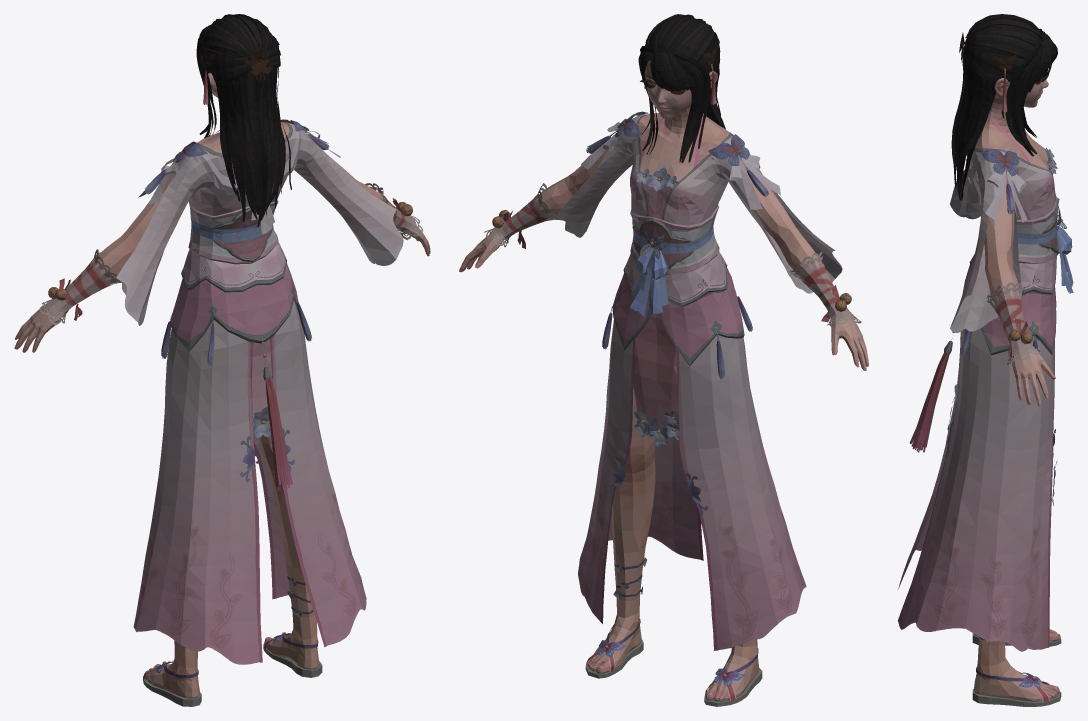
File: OriginalModel_LashFixed.fbx
3 renders of one model, left to right at view 1: azimuth 30°, elevation 25°; view 2: azimuth 150°, elevation 25°; view 3: azimuth 270°, elevation 25°, orthographic.
Parts seen in each view (by area): view 1: mesh_12_947881, mesh_07_598895, mesh_08_747885, mesh_05_436959, mesh_09_830237, mesh_03_362967, mesh_13_1062969, mesh_02_302131, mesh_06_523091, mesh_11_926543; view 2: mesh_12_947881, mesh_07_598895, mesh_05_436959, mesh_13_1062969, mesh_08_747885, mesh_03_362967, mesh_09_830237, mesh_02_302131, mesh_06_523091, mesh_01_142015; view 3: mesh_12_947881, mesh_07_598895, mesh_08_747885, mesh_13_1062969, mesh_09_830237, mesh_05_436959, mesh_03_362967, mesh_06_523091, mesh_02_302131, mesh_01_142015, mesh_11_926543.
Part boxes in pixels (bbox=[...]): mesh_12_947881: bbox=[133, 243, 366, 664]; mesh_07_598895: bbox=[116, 119, 403, 325]; mesh_08_747885: bbox=[196, 24, 291, 226]; mesh_05_436959: bbox=[145, 428, 319, 698]; mesh_09_830237: bbox=[201, 14, 280, 86]; mesh_03_362967: bbox=[39, 183, 423, 324]; mesh_13_1062969: bbox=[98, 122, 380, 276]; mesh_02_302131: bbox=[143, 576, 322, 706]; mesh_06_523091: bbox=[14, 193, 430, 352]; mesh_11_926543: bbox=[204, 44, 273, 80]; mesh_12_947881: bbox=[578, 247, 806, 650]; mesh_07_598895: bbox=[554, 111, 842, 293]; mesh_05_436959: bbox=[587, 363, 759, 701]; mesh_13_1062969: bbox=[540, 113, 817, 270]; mesh_08_747885: bbox=[638, 46, 725, 162]; mesh_03_362967: bbox=[484, 183, 861, 326]; mesh_09_830237: bbox=[645, 14, 720, 91]; mesh_02_302131: bbox=[585, 557, 762, 706]; mesh_06_523091: bbox=[459, 191, 868, 370]; mesh_01_142015: bbox=[645, 60, 717, 119]; mesh_12_947881: bbox=[898, 226, 1073, 651]; mesh_07_598895: bbox=[950, 114, 1066, 332]; mesh_08_747885: bbox=[951, 28, 1057, 200]; mesh_13_1062969: bbox=[975, 111, 1049, 296]; mesh_09_830237: bbox=[964, 14, 1043, 118]; mesh_05_436959: bbox=[974, 629, 1059, 701]; mesh_03_362967: bbox=[987, 282, 1040, 364]; mesh_06_523091: bbox=[993, 290, 1055, 406]; mesh_02_302131: bbox=[972, 633, 1061, 706]; mesh_01_142015: bbox=[990, 78, 1048, 115]; mesh_11_926543: bbox=[959, 32, 1016, 72].
Bounding box in the file's own units: 8722 × 3278 × 13354.
